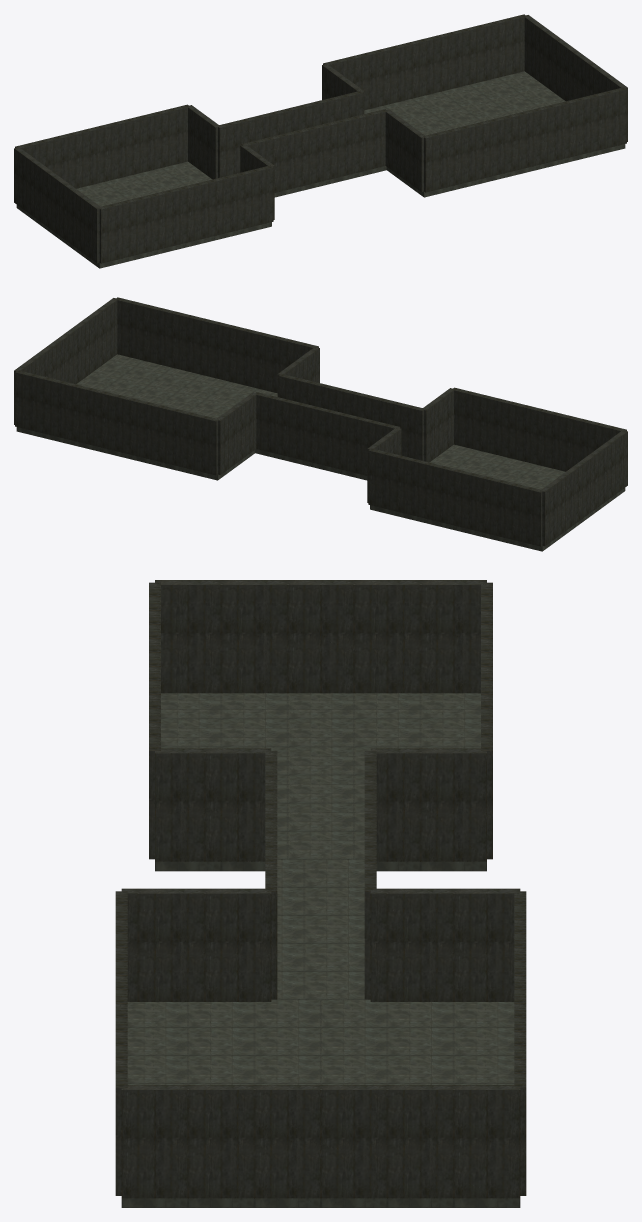
File: textured-environment.obj
3 renders of one model, top to bottom at view 1: azimuth 30°, elevation 25°; view 2: azimuth 150°, elevation 25°; view 3: azimuth 270°, elevation 25°, orthographic. The views are drawn at different scales.
Parts seen in each view (by area): view 1: TexturedExtractionSlice; view 2: TexturedExtractionSlice; view 3: TexturedExtractionSlice.
Part boxes in pixels (x1,y1,x2,y2): TexturedExtractionSlice: (14,14,627,268); TexturedExtractionSlice: (14,297,627,551); TexturedExtractionSlice: (115,580,526,1207).
Size of the model in its own units: 36.36 by 4 by 12.36.
2 materials, 2 textured.
